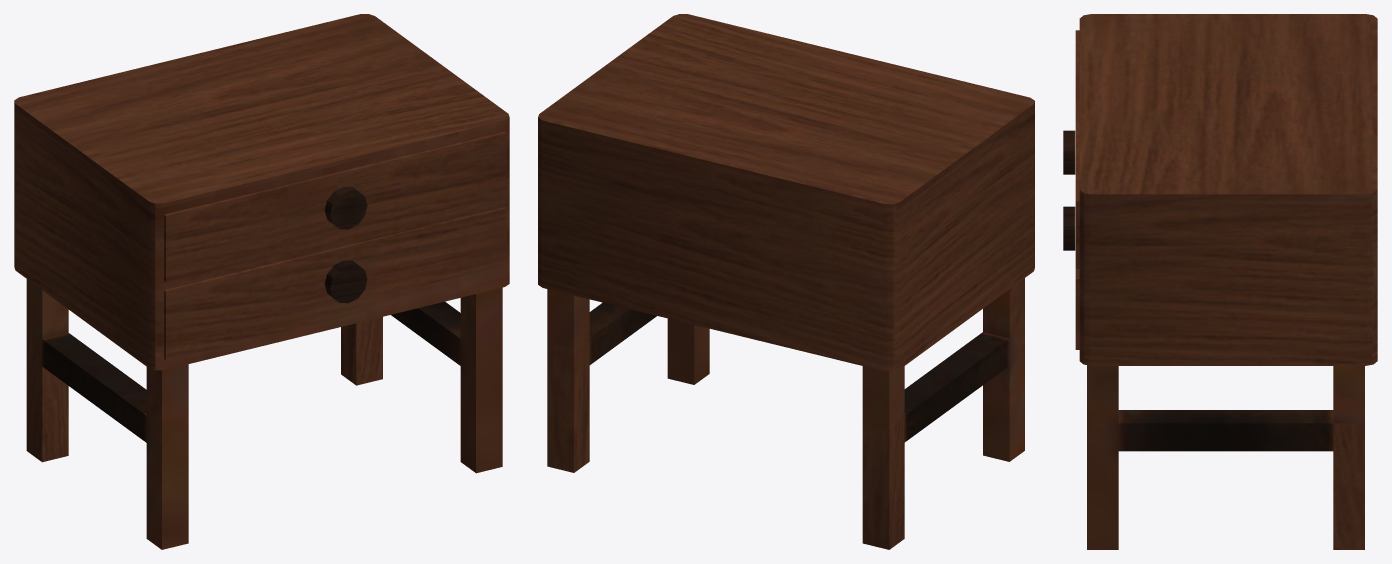
Rendered from Commode_vi.fbx.
3 views of the same model, side by side, from view 1: azimuth 30°, elevation 25°; view 2: azimuth 150°, elevation 25°; view 3: azimuth 270°, elevation 25° (orthographic). The views are drawn at different scales.
Visible parts, largest first — view 1: Commmode; view 2: Commmode; view 3: Commmode.
Part boxes in pixels (box(x1,y1,x2,y2)): Commmode: box(14, 14, 509, 549); Commmode: box(538, 14, 1034, 549); Commmode: box(1063, 14, 1377, 549).
Size of the model in its own units: 0.0096 by 0.00892 by 0.00707.
Materials: 1 (1 with a texture image).
